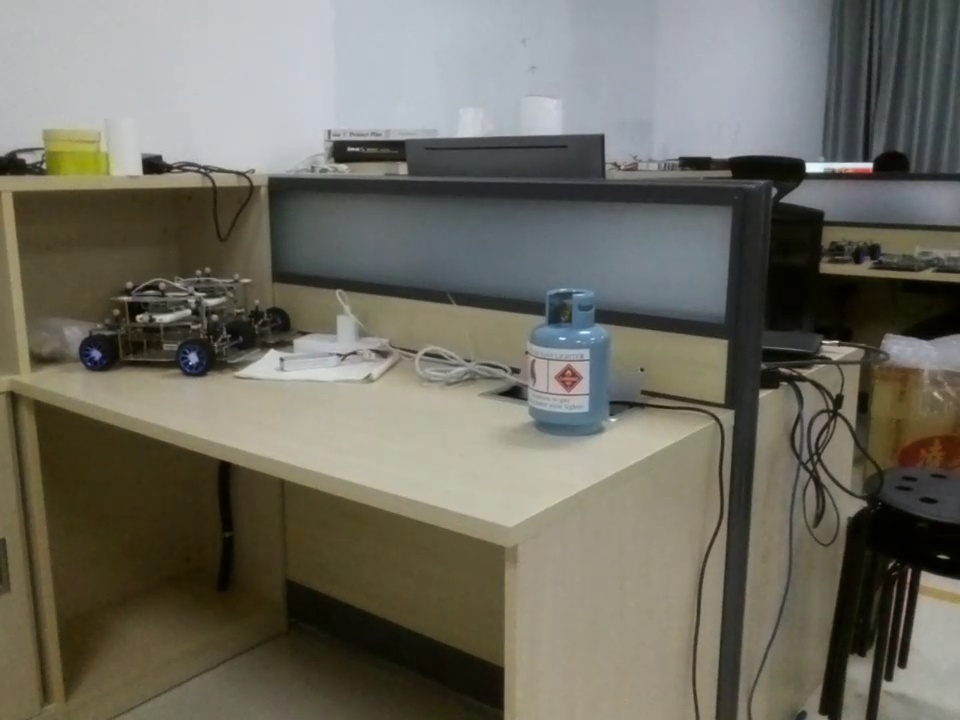gas tank: (511, 287, 631, 442)
